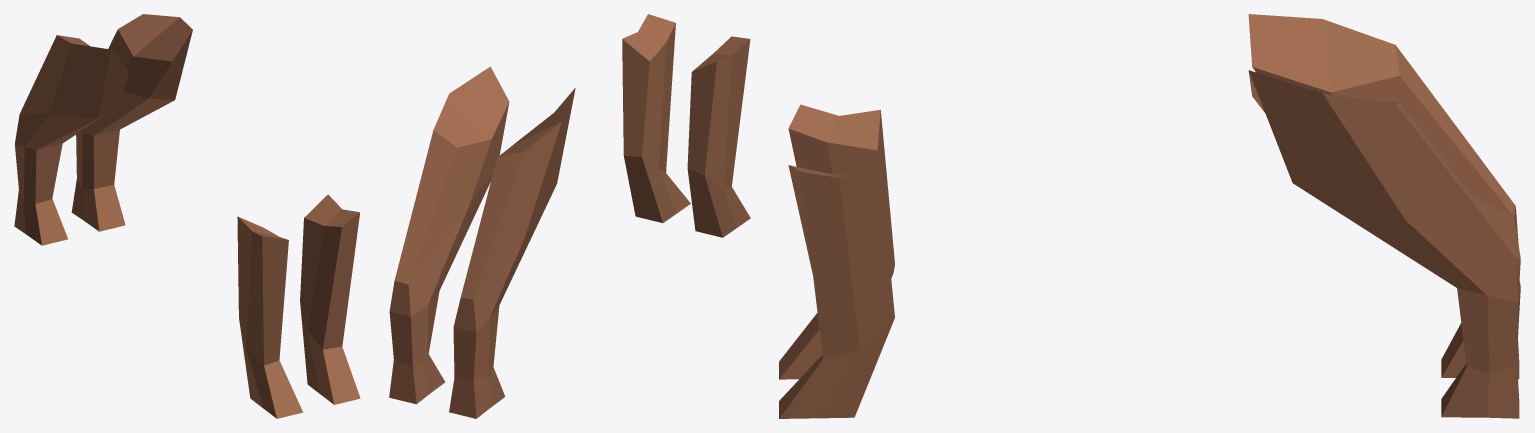
Rendered from Dog_Part1.fbx.
The picture shows the model from 3 angles, left to right: view 1: azimuth 30°, elevation 25°; view 2: azimuth 150°, elevation 25°; view 3: azimuth 270°, elevation 25°; orthographic projection. The views are drawn at different scales.
Parts seen in each view (by area): view 1: dog_part1_feet; view 2: dog_part1_feet; view 3: dog_part1_feet.
Part boxes in pixels (left/top/right/bottom): dog_part1_feet: left=14, top=14, right=360, bottom=418; dog_part1_feet: left=389, top=14, right=750, bottom=418; dog_part1_feet: left=779, top=14, right=1520, bottom=418.
Size of the model in its own units: 65.13 by 142 by 275.
